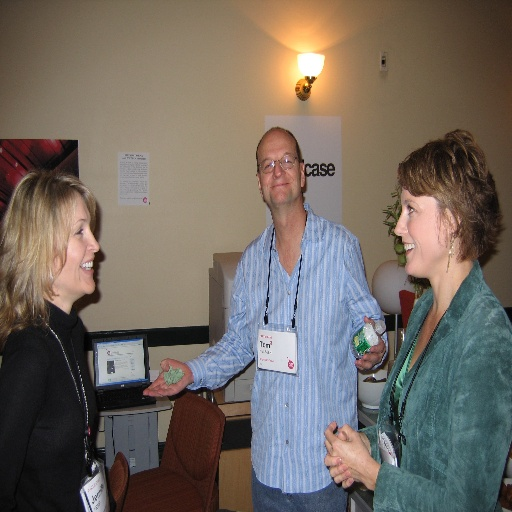hand: (323, 429, 371, 487), (142, 358, 193, 397), (353, 316, 386, 372)
